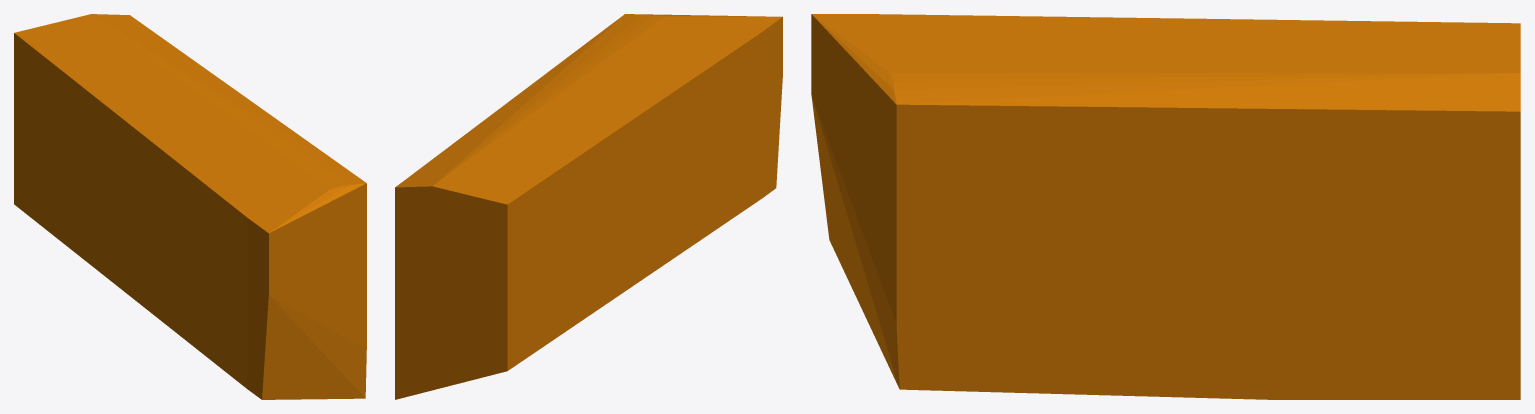
3 views of the same model, side by side, from view 1: azimuth 30°, elevation 25°; view 2: azimuth 150°, elevation 25°; view 3: azimuth 270°, elevation 25° (orthographic). The views are drawn at different scales.
Size of the model in its own units: 0.2384 by 0.4012 by 0.8531.
